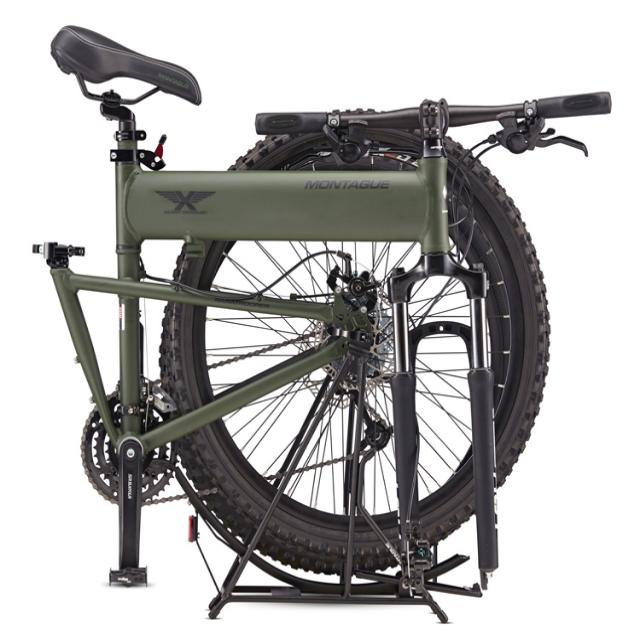folding-bike: (27, 21, 620, 622)
